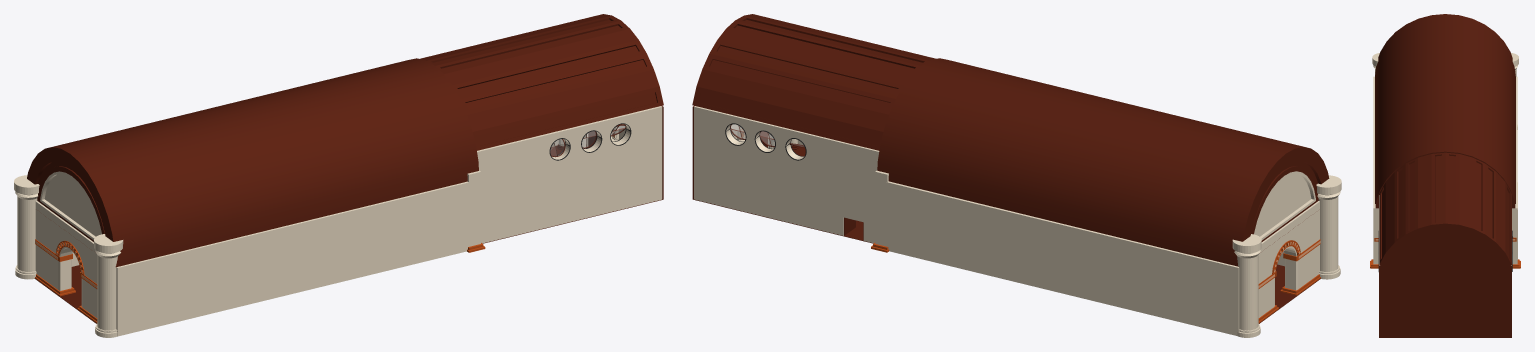
The model's file is FrontMuseum.glb.
3 renders of one model, left to right at view 1: azimuth 30°, elevation 25°; view 2: azimuth 150°, elevation 25°; view 3: azimuth 270°, elevation 25°, orthographic. The views are drawn at different scales.
Visible parts, largest first — view 1: Circle.003, Plane.005, Circle.008, Plane.002, Circle.004, Plane.004, Circle.023, Plane, Plane.006, Circle.001; view 2: Circle.003, Plane.005, Circle.008, Plane.001, Circle.004, Plane.004, Circle.023, Plane, Plane.006, Circle.001; view 3: Circle.003, Circle.008, Plane, Plane.006, Plane.005, Circle.004.
Part boxes in pixels (x1=…): Circle.003: x1=27, y1=58, x2=478, y2=267; Plane.005: x1=71, y1=181, x2=469, y2=336; Circle.008: x1=420, y1=14, x2=663, y2=150; Plane.002: x1=477, y1=106, x2=662, y2=243; Circle.004: x1=14, y1=175, x2=123, y2=337; Plane.004: x1=35, y1=201, x2=97, y2=323; Circle.023: x1=44, y1=174, x2=100, y2=236; Plane: x1=34, y1=106, x2=663, y2=323; Plane.006: x1=467, y1=170, x2=485, y2=252; Circle.001: x1=35, y1=239, x2=97, y2=288; Circle.003: x1=877, y1=58, x2=1329, y2=266; Plane.005: x1=886, y1=181, x2=1284, y2=335; Circle.008: x1=692, y1=14, x2=936, y2=150; Plane.001: x1=694, y1=106, x2=879, y2=243; Circle.004: x1=1232, y1=175, x2=1341, y2=337; Plane.004: x1=1258, y1=201, x2=1320, y2=323; Circle.023: x1=1255, y1=173, x2=1311, y2=236; Plane: x1=692, y1=105, x2=1320, y2=323; Plane.006: x1=871, y1=170, x2=889, y2=252; Circle.001: x1=1258, y1=239, x2=1320, y2=288; Circle.003: x1=1375, y1=14, x2=1515, y2=208; Circle.008: x1=1379, y1=152, x2=1511, y2=266; Plane: x1=1379, y1=265, x2=1511, y2=337; Plane.006: x1=1370, y1=204, x2=1520, y2=268; Plane.005: x1=1373, y1=76, x2=1517, y2=259; Circle.004: x1=1372, y1=53, x2=1518, y2=129.
Size of the model in its own units: 81.35 by 20.52 by 24.22.
